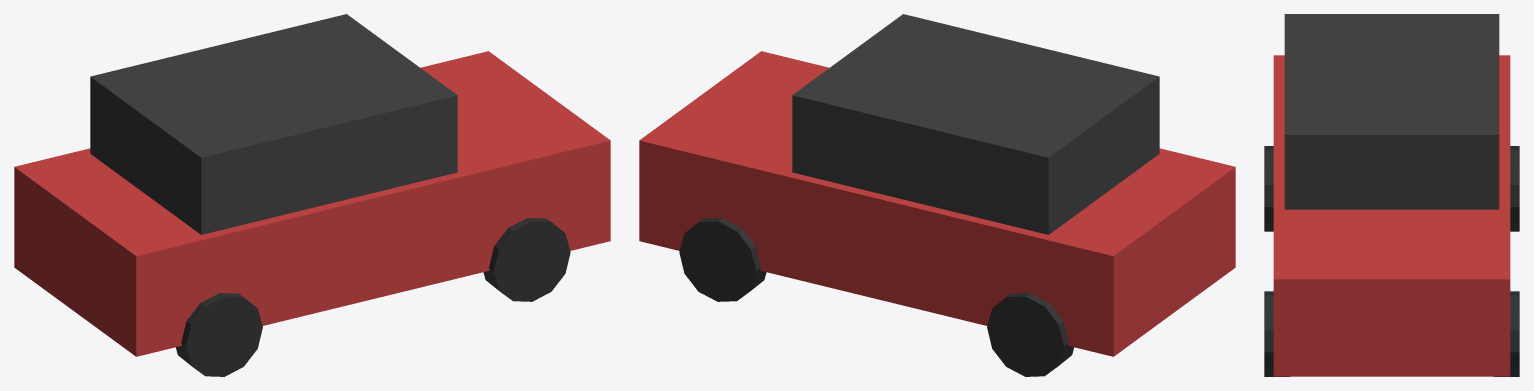
The model's file is Hatchback_01.fbx.
3 renders of one model, left to right at view 1: azimuth 30°, elevation 25°; view 2: azimuth 150°, elevation 25°; view 3: azimuth 270°, elevation 25°, orthographic. The views are drawn at different scales.
Parts seen in each view (by area): view 1: Body, Roof, Wheel_FrontRight, Wheel_RearRight; view 2: Body, Roof, Wheel_FrontLeft, Wheel_RearLeft; view 3: Body, Roof, Wheel_FrontLeft, Wheel_FrontRight, Wheel_RearLeft, Wheel_RearRight.
Part boxes in pixels (x1=…): Body: x1=14, y1=51, x2=610, y2=356; Roof: x1=90, y1=14, x2=457, y2=234; Wheel_FrontRight: x1=483, y1=218, x2=570, y2=301; Wheel_RearRight: x1=176, y1=293, x2=262, y2=376; Body: x1=639, y1=51, x2=1235, y2=356; Roof: x1=792, y1=14, x2=1159, y2=234; Wheel_FrontLeft: x1=679, y1=218, x2=766, y2=301; Wheel_RearLeft: x1=987, y1=293, x2=1073, y2=376; Body: x1=1273, y1=55, x2=1510, y2=376; Roof: x1=1284, y1=14, x2=1499, y2=209; Wheel_FrontLeft: x1=1494, y1=291, x2=1519, y2=376; Wheel_FrontRight: x1=1264, y1=291, x2=1289, y2=376; Wheel_RearLeft: x1=1510, y1=146, x2=1519, y2=231; Wheel_RearRight: x1=1264, y1=146, x2=1273, y2=231.
Bounding box in the file's own units: 3.7 × 1.6 × 1.78.
